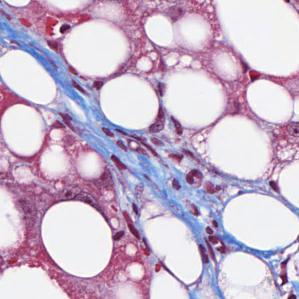inflammation: (98, 123, 189, 173)
